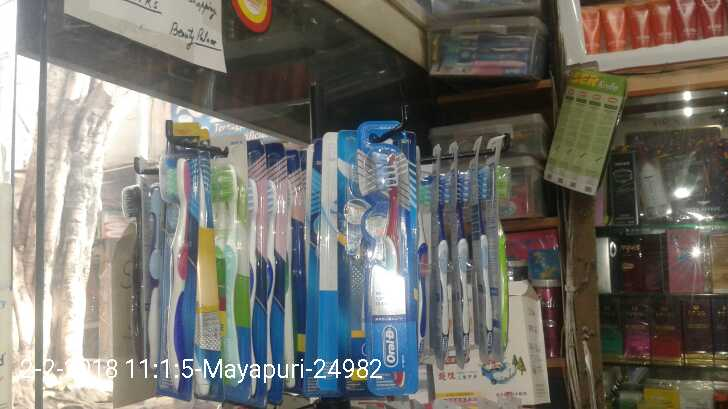oralb: (361, 149, 423, 388)
